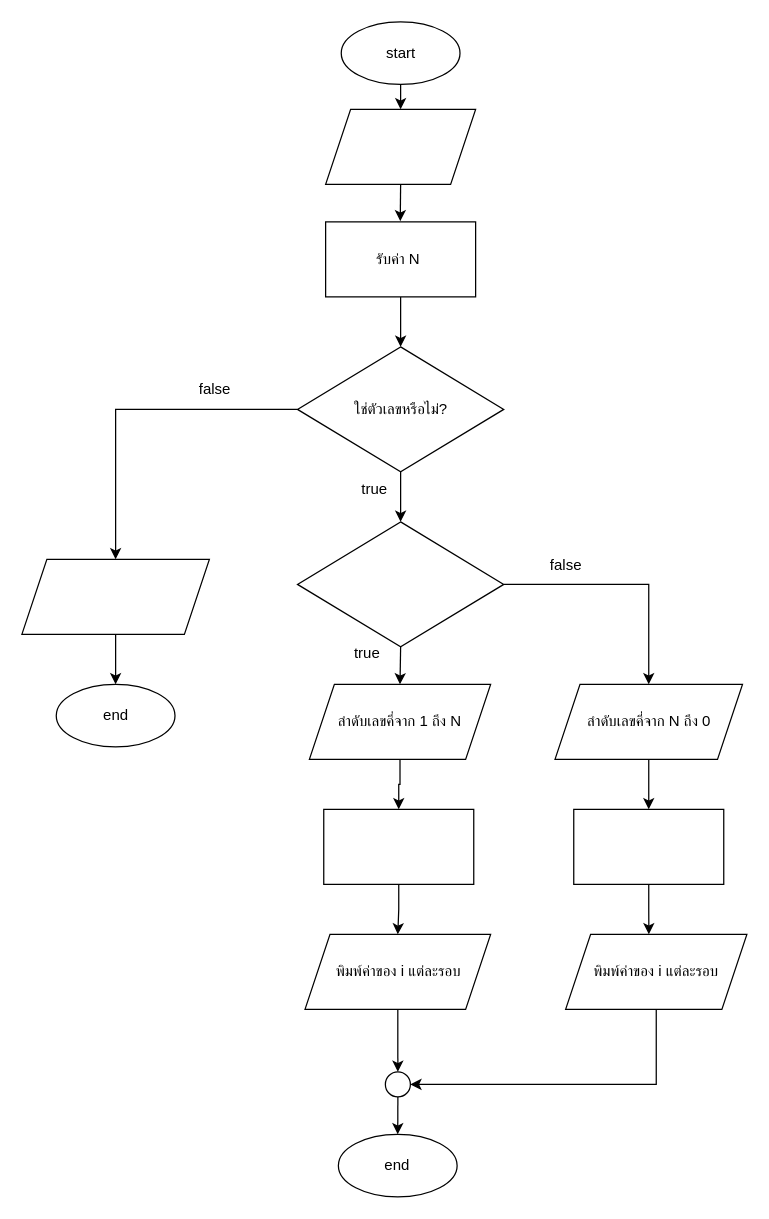
Some shapes in this 769 by 1219 pixel diagram are drawn without their labels. Here are the shapes that lost their labels. From the top down, the centre of each, then its label:
At (400,146): "กรอกเลข".
At (115,596): "ตัวเลขเท่านั้น".
At (400,584): "N % 2 == 1 ?".
At (398,846): "เริ่มลูป i = 1 ถึง N เพิ่มครั้งละ 2 (i += 2)".
At (648,846): "เริ่มลูป i = N ถึง 0 ลดลงครั้งละ 2 (i -= 2)".
